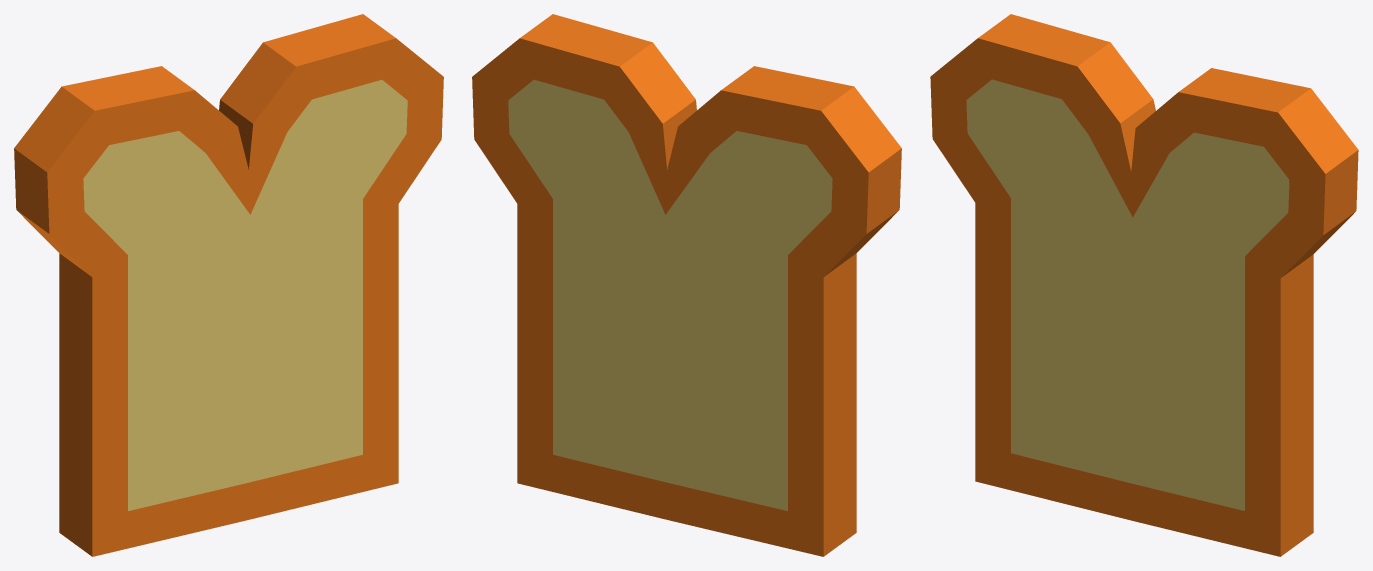
File: Toast.glb
3 renders of one model, left to right at view 1: azimuth 30°, elevation 25°; view 2: azimuth 150°, elevation 25°; view 3: azimuth 330°, elevation 25°, orthographic.
Visible parts, largest first — view 1: toast; view 2: toast; view 3: toast.
Boxes of the visible parts, <box> form: toast: <box>14,14,443,556</box>; toast: <box>472,14,901,556</box>; toast: <box>930,14,1358,556</box>.
Size of the model in its own units: 10.83 by 11.66 by 1.57.
Materials: 1 (1 with a texture image).
